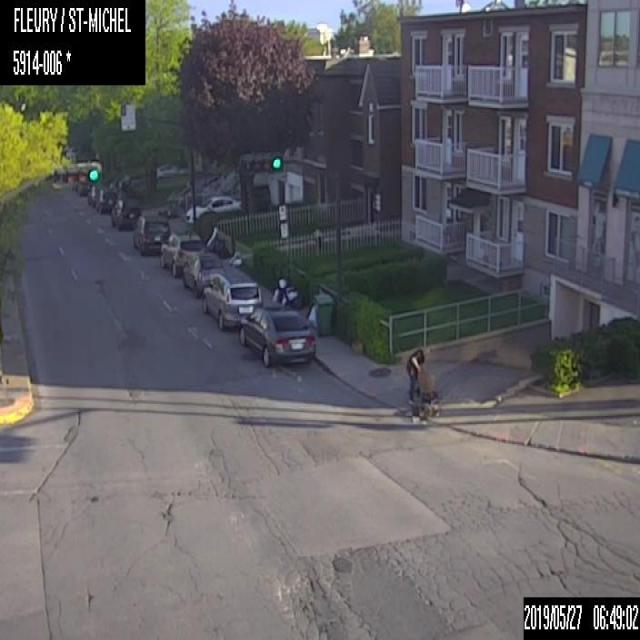pedestrian: (403, 347, 426, 405), (267, 277, 297, 303)
vehicle: (236, 304, 316, 366), (200, 269, 264, 328), (180, 248, 226, 299), (158, 231, 202, 278), (130, 212, 170, 257), (183, 192, 241, 222), (108, 195, 140, 229), (94, 186, 116, 215)
